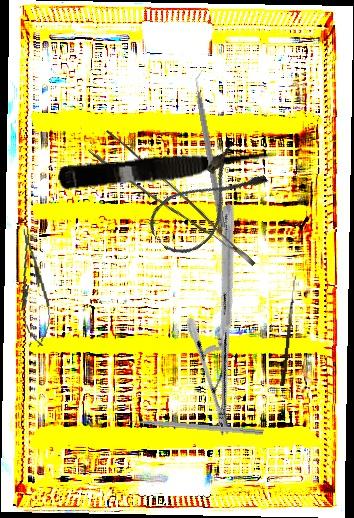Cannula: (140, 139, 272, 266)
Chopper: (191, 69, 235, 228), (119, 409, 265, 436)
Hook Surgical: (280, 275, 296, 387)
Micro Scissor: (57, 143, 280, 196)
Needle Holder: (124, 202, 328, 438), (11, 226, 56, 349)
Tissue Forceps: (87, 122, 256, 291)
